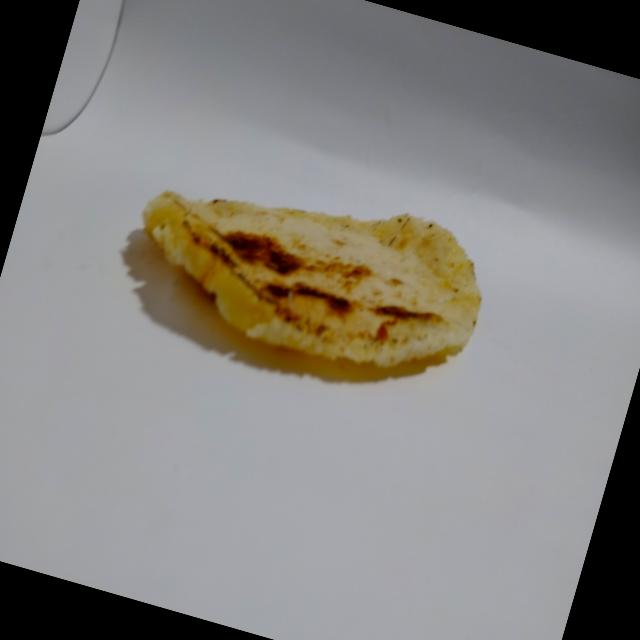Mbeju: (96, 131, 514, 416)
